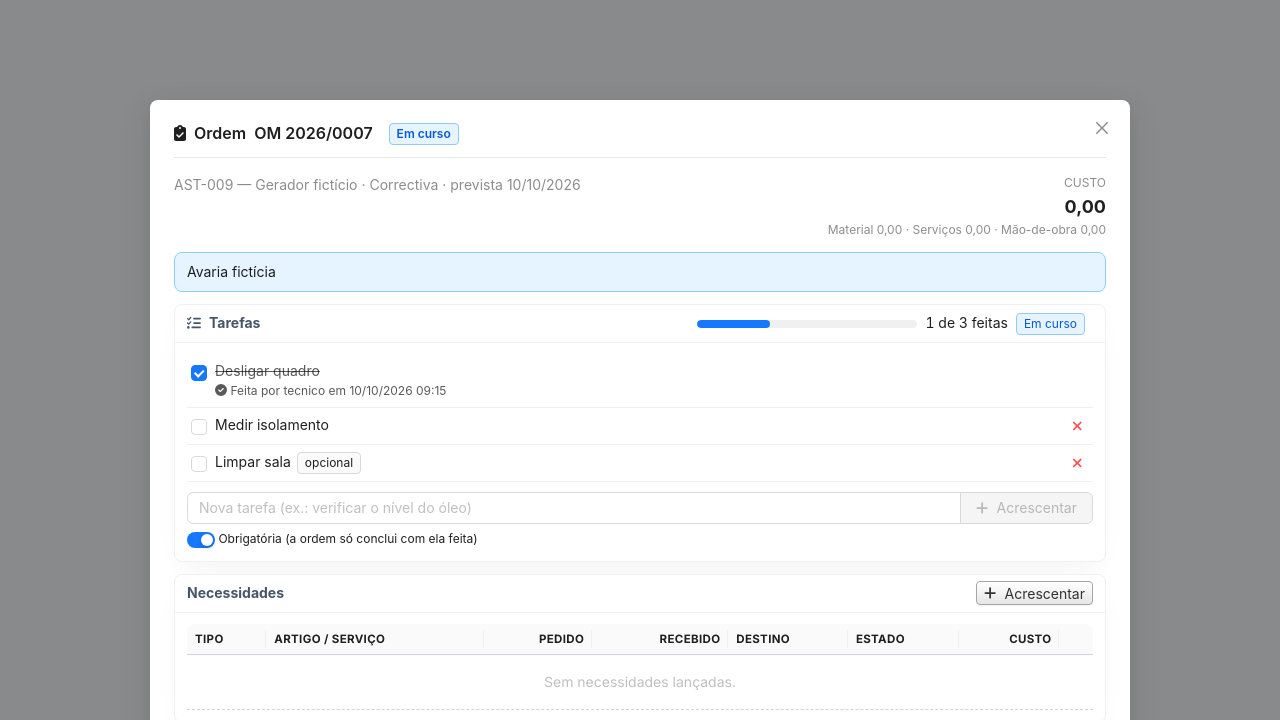
Test: Ecrãs (r3_activos) › ordem: progresso, «Concluir» bloqueado com obrigatórias por fazer e marcar tarefa uma a uma
expect the text "Medir isolamento" is shown: met, box [215,416,329,433]
expect the text "1 de 3 feitas" is shown: met, box [926,314,1008,332]
Click the checkbox named "Concluir a tarefa «Medir isolamento»": (199, 427) [191,416,207,438]
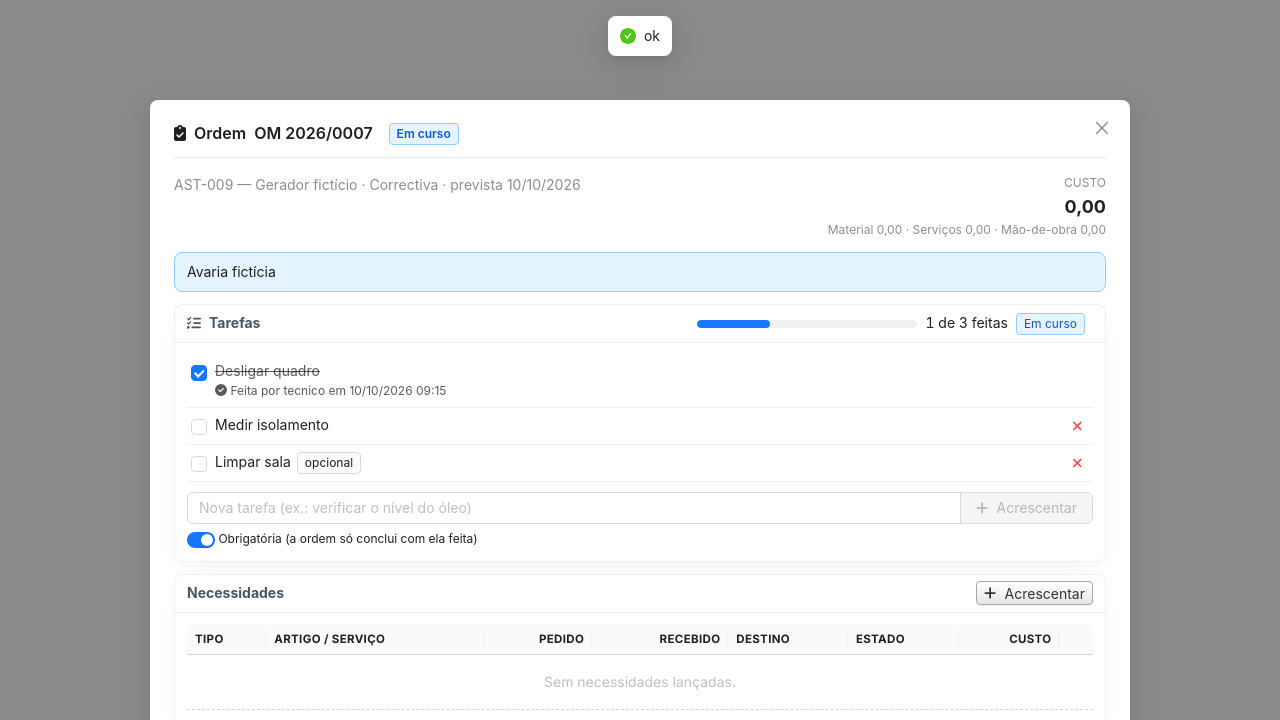
In the field labelled "Nova tarefa": (574, 508) [187,492,961,524], type "Verificar ligações"
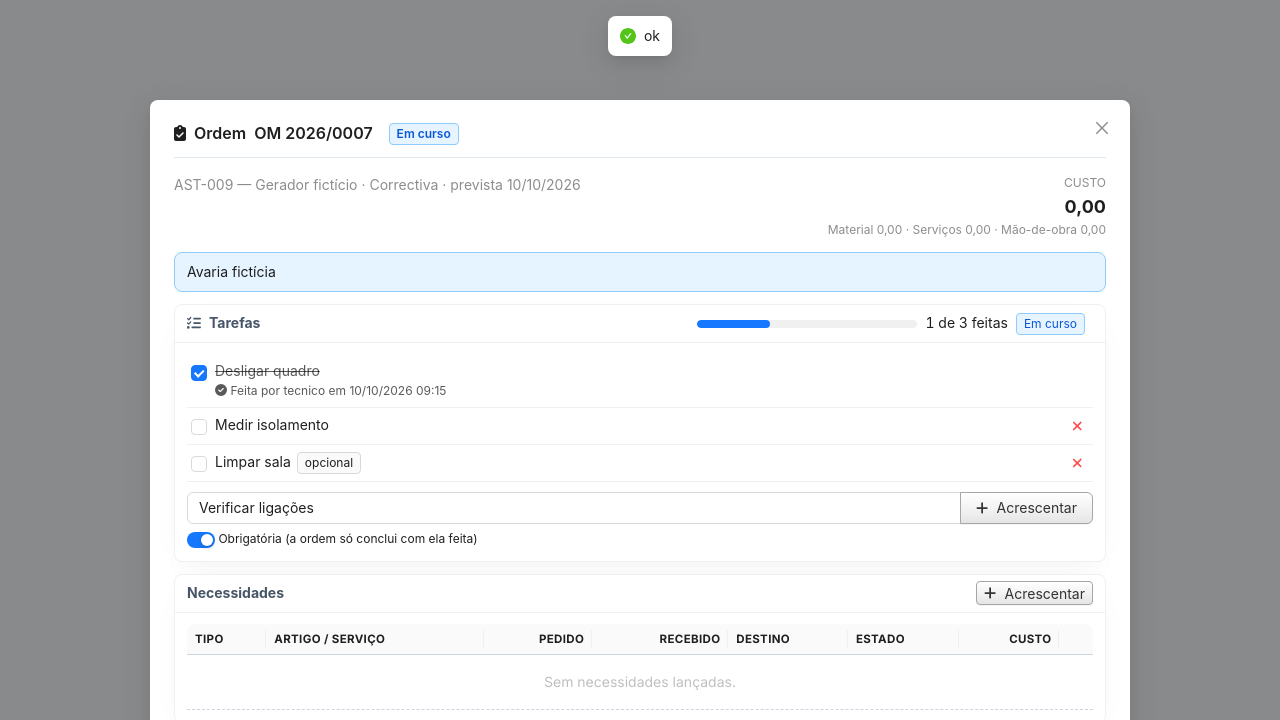
Press Enter in the field named "Nova tarefa", box [187,492,961,524]
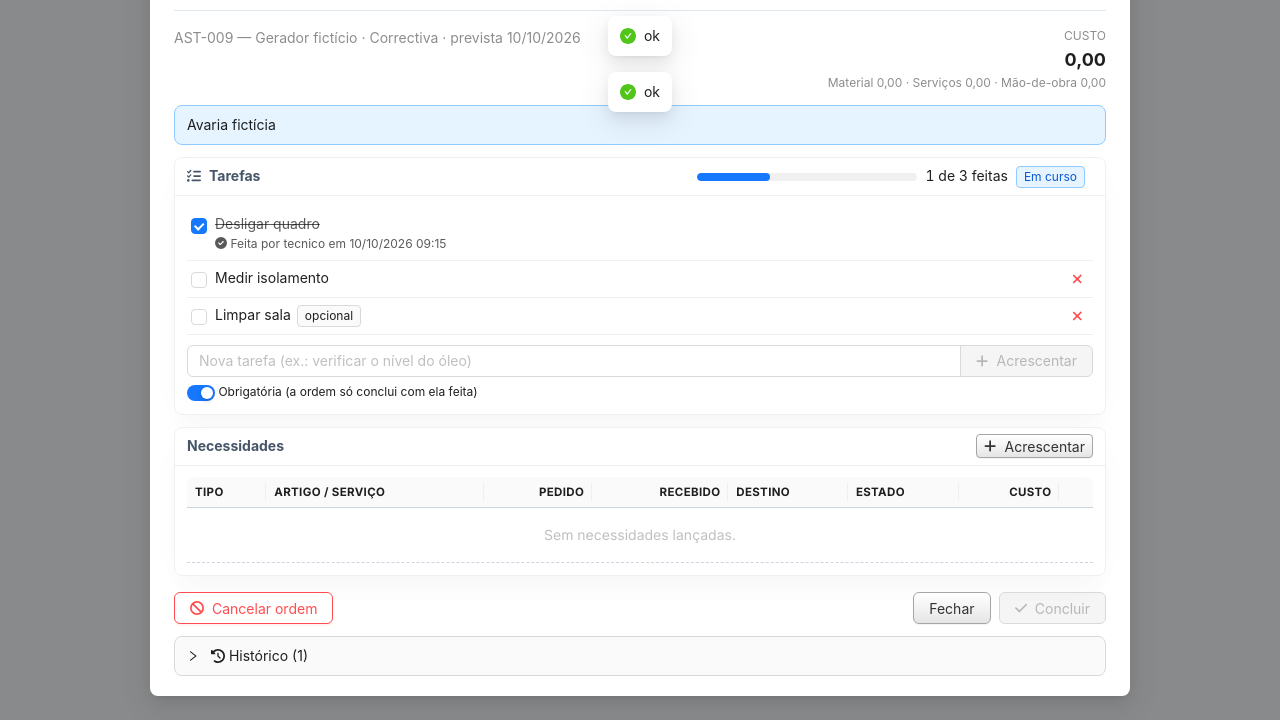
expect the text "Histórico (1)" is shown: met, box [211,647,308,664]
